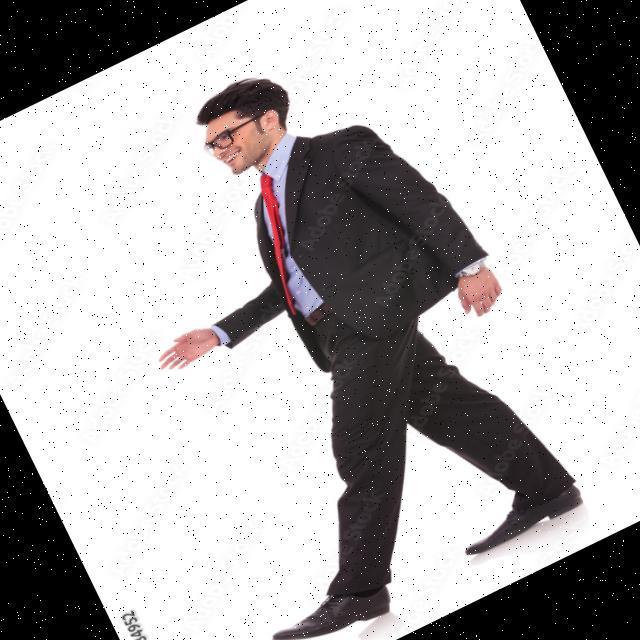Person: (48, 17, 607, 640)
